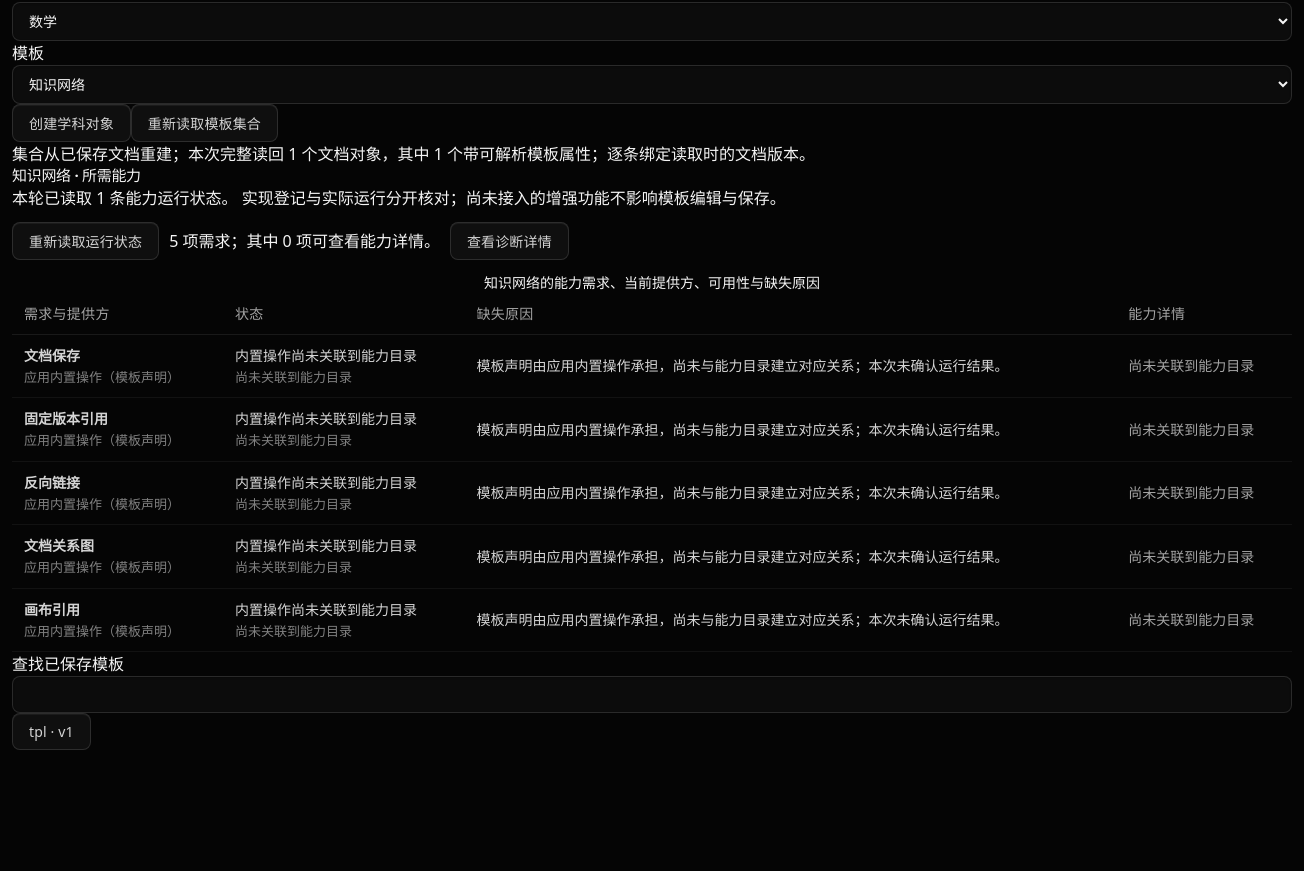
template detail renders the requirement table › does not promote a connection observation into a successful template task: {"enabled":true,"health":"handshake_ready"}
This screenshot has width=1304, height=871.
Step 1. Click the button "tpl · v1" → point(51, 732), box [12, 713, 91, 750]
(page scrolled)
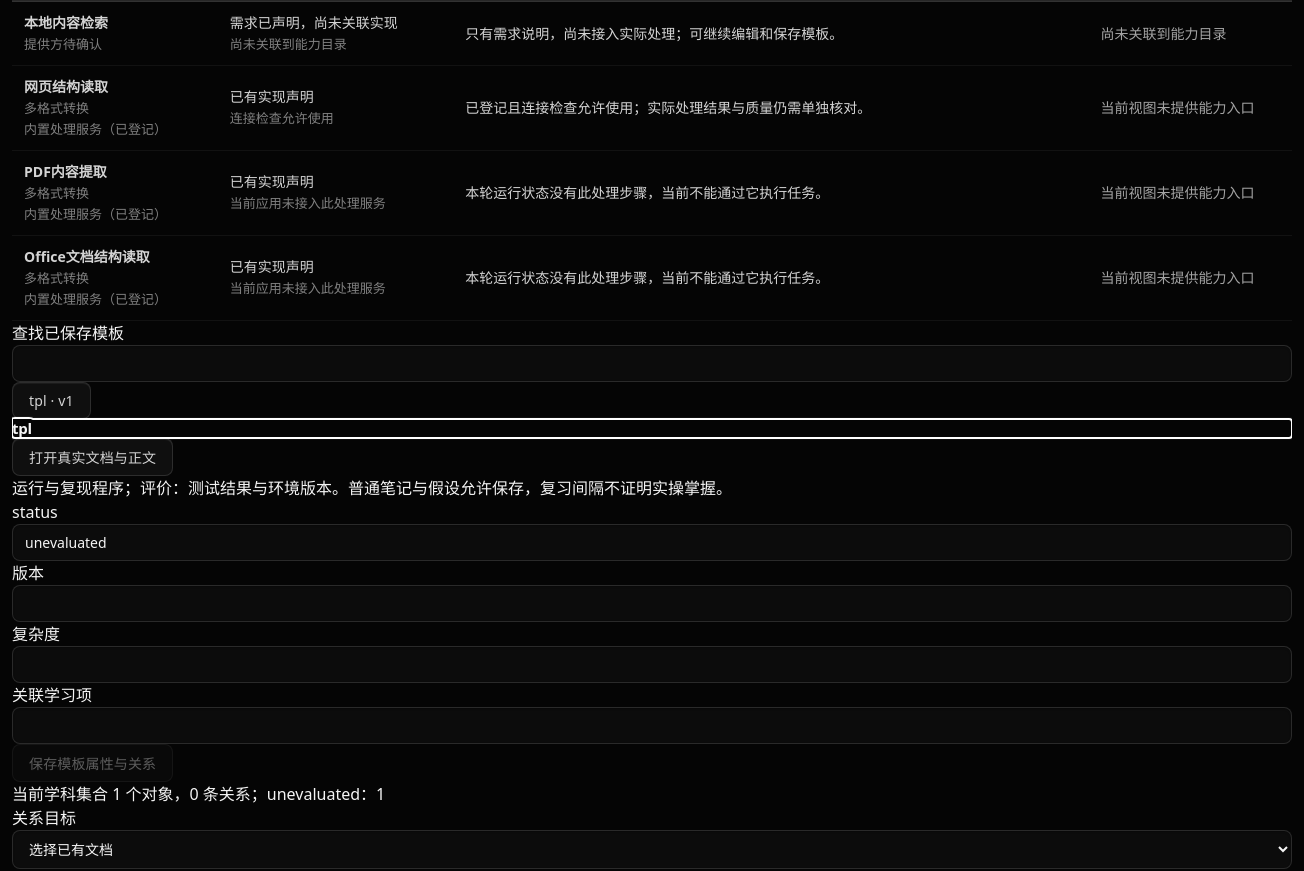
expect the row "网页结构读取" shows "已有实现声明": met, box [230, 87, 314, 106]
expect the row "网页结构读取" shows "连接检查允许使用": met, box [230, 109, 334, 127]
expect the row "网页结构读取" shows "实际处理结果与质量仍需单独核对": met, box [465, 98, 871, 117]
